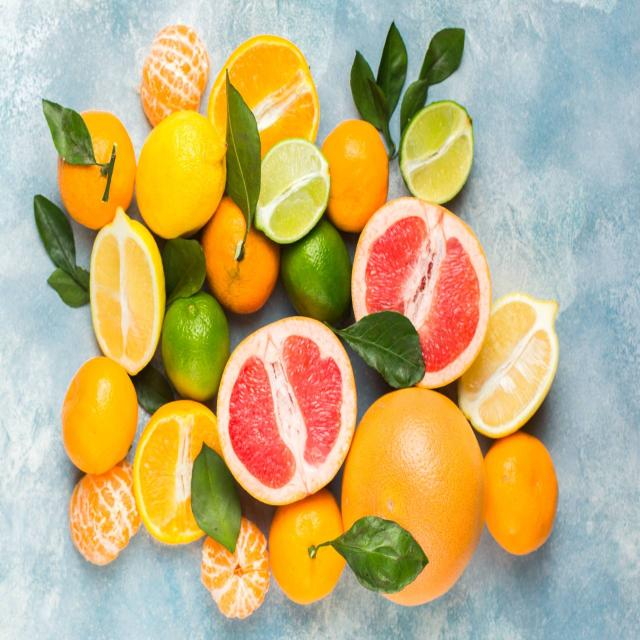orange: (338, 386, 485, 611), (457, 292, 561, 439), (130, 399, 224, 548), (213, 37, 321, 157), (134, 111, 229, 241), (90, 212, 165, 376), (61, 355, 141, 477), (58, 109, 138, 230), (200, 198, 280, 315), (484, 433, 560, 555), (269, 488, 347, 604), (254, 140, 332, 245), (323, 118, 390, 232), (199, 514, 271, 617)
